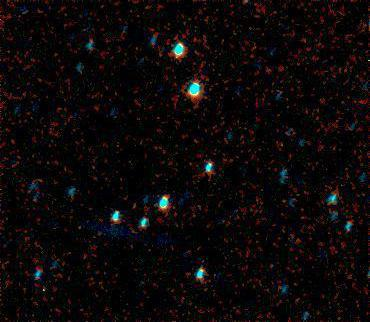star: (192, 249, 222, 279)
